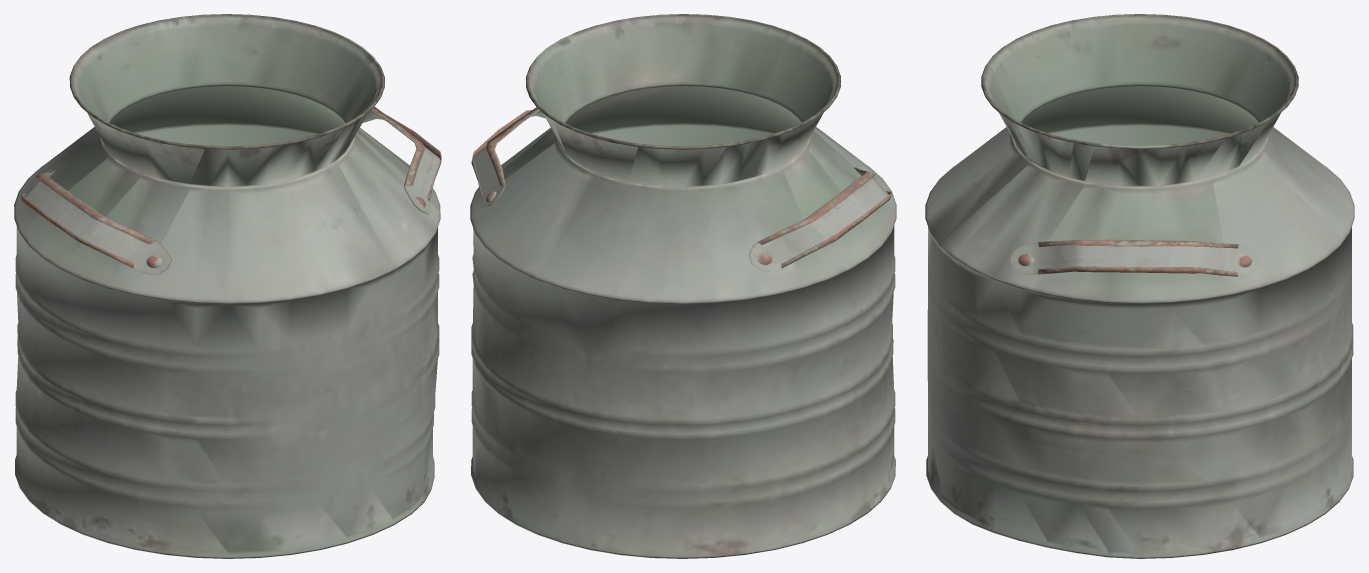
File: ph-metal-jug.glb
3 renders of one model, left to right at view 1: azimuth 30°, elevation 25°; view 2: azimuth 150°, elevation 25°; view 3: azimuth 270°, elevation 25°, orthographic.
Parts seen in each view (by area): view 1: metal_jug; view 2: metal_jug; view 3: metal_jug.
Boxes of the visible parts, bbox=[...] form: metal_jug: bbox=[14, 14, 441, 558]; metal_jug: bbox=[470, 14, 896, 558]; metal_jug: bbox=[925, 14, 1354, 558].
Size of the model in its own units: 1 by 1 by 1.
1 material, 1 textured.
